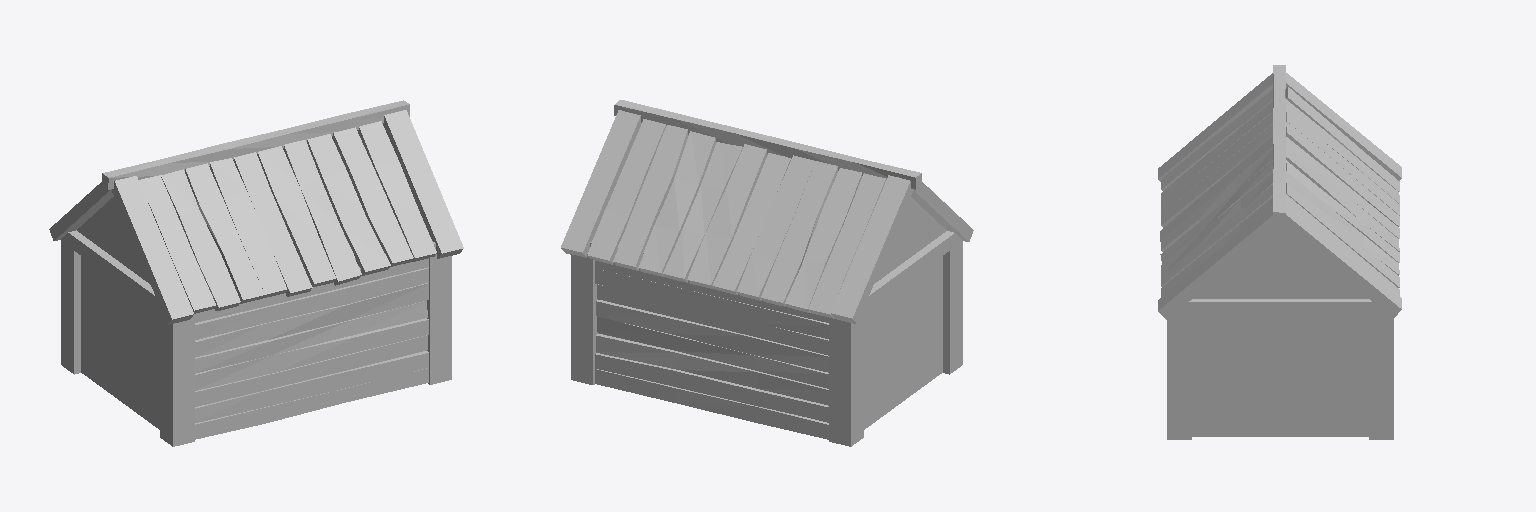
The model's file is cabin.obj.
3 views of the same model, side by side, from view 1: azimuth 30°, elevation 25°; view 2: azimuth 150°, elevation 25°; view 3: azimuth 270°, elevation 25° (orthographic).
Parts seen in each view (by area): view 1: Cube_Cube.001; view 2: Cube_Cube.001; view 3: Cube_Cube.001.
Part boxes in pixels (left/top/right/bottom): Cube_Cube.001: left=49, top=100, right=463, bottom=446; Cube_Cube.001: left=561, top=100, right=973, bottom=446; Cube_Cube.001: left=1158, top=65, right=1401, bottom=439.
Bounding box in the file's own units: 10.21 × 7.6 × 7.17.